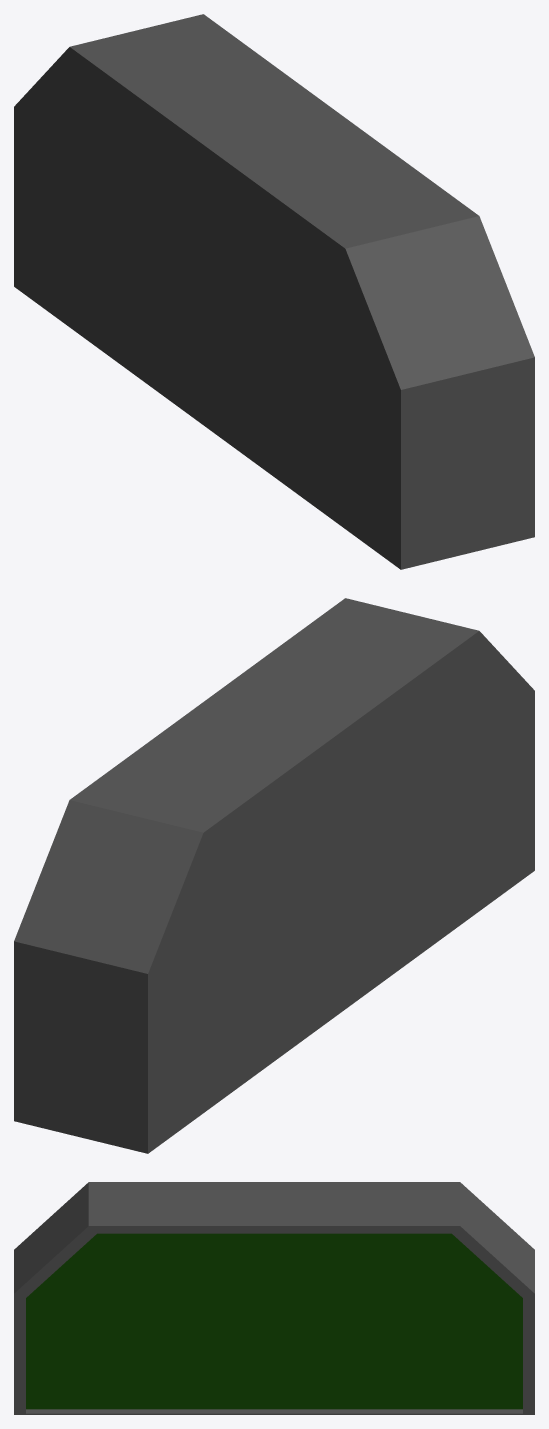
Rendered from Vehicle Clock.fbx.
3 renders of one model, top to bottom at view 1: azimuth 30°, elevation 25°; view 2: azimuth 150°, elevation 25°; view 3: azimuth 270°, elevation 25°, orthographic. The views are drawn at different scales.
Visible parts, largest first — view 1: Cube; view 2: Cube; view 3: Cube.
Part boxes in pixels (x1,y1,x2,y2): Cube: (14, 14, 534, 569); Cube: (14, 598, 534, 1153); Cube: (14, 1182, 534, 1414).
Size of the model in its own units: 200 by 400 by 1000.
